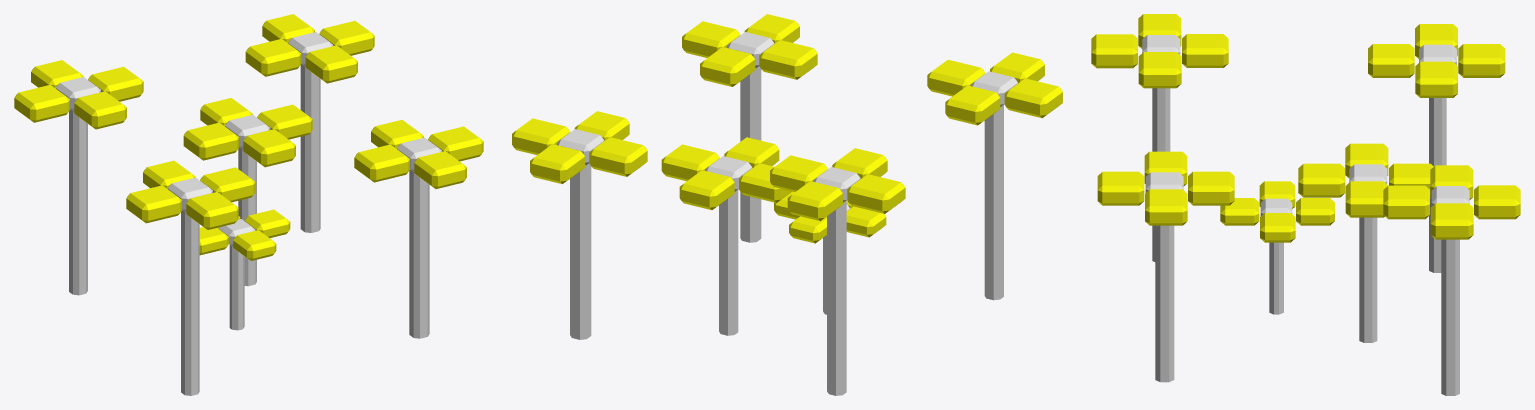
Rendered from Flowers_1.glb.
3 renders of one model, left to right at view 1: azimuth 30°, elevation 25°; view 2: azimuth 150°, elevation 25°; view 3: azimuth 270°, elevation 25°, orthographic. The views are drawn at different scales.
Parts seen in each view (by area): view 1: Flowers_1; view 2: Flowers_1; view 3: Flowers_1.
Boxes of the visible parts, x1=… form: Flowers_1: x1=14, y1=14, x2=483, y2=395; Flowers_1: x1=512, y1=14, x2=1062, y2=395; Flowers_1: x1=1091, y1=14, x2=1520, y2=395.
Bounding box in the file's own units: 1.93 × 1.03 × 1.83.
3 materials, 1 textured.
